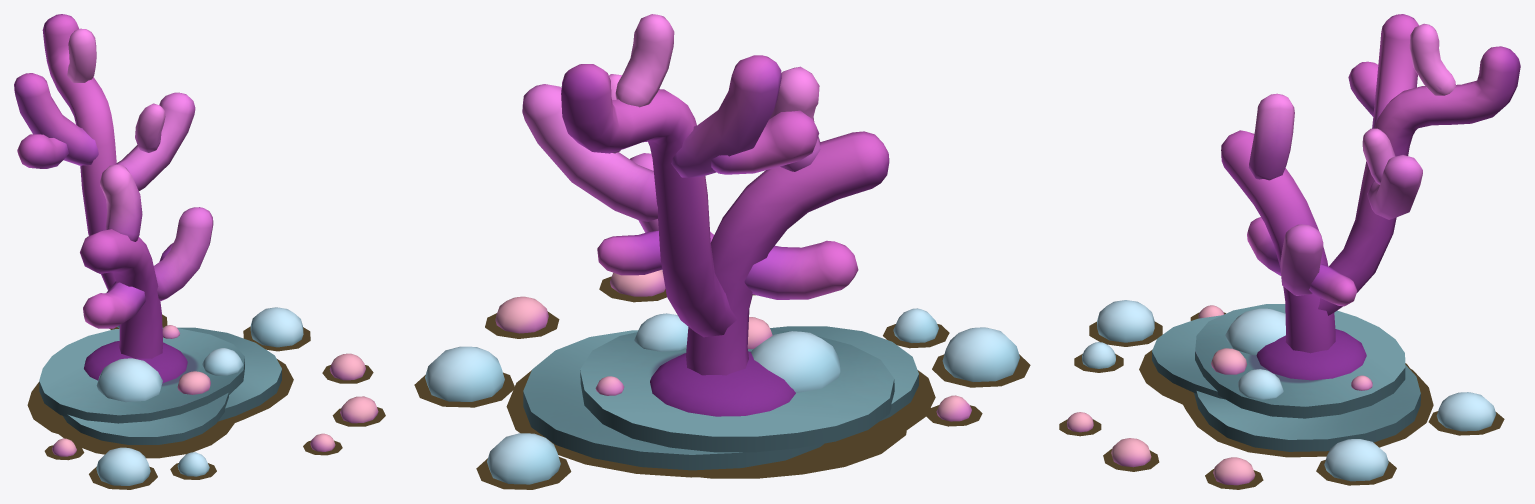
The model's file is Mu_Coral01.fbx.
3 views of the same model, side by side, from view 1: azimuth 30°, elevation 25°; view 2: azimuth 150°, elevation 25°; view 3: azimuth 270°, elevation 25° (orthographic). The views are drawn at different scales.
Visible parts, largest first — view 1: Mu_Coral01_a, Mu_Coral01_shadow, Mu_Coral01_b; view 2: Mu_Coral01_a, Mu_Coral01_b, Mu_Coral01_shadow; view 3: Mu_Coral01_a, Mu_Coral01_b, Mu_Coral01_shadow.
Part boxes in pixels (bbox=[...]): Mu_Coral01_a: bbox=[14, 14, 281, 444]; Mu_Coral01_shadow: bbox=[27, 314, 385, 489]; Mu_Coral01_b: bbox=[52, 307, 378, 485]; Mu_Coral01_a: bbox=[522, 14, 918, 470]; Mu_Coral01_b: bbox=[425, 270, 1019, 484]; Mu_Coral01_shadow: bbox=[414, 276, 1030, 489]; Mu_Coral01_a: bbox=[1152, 14, 1520, 451]; Mu_Coral01_b: bbox=[1067, 300, 1496, 485]; Mu_Coral01_shadow: bbox=[1059, 312, 1504, 489].
Bounding box in the file's own units: 178 × 165 × 193.
2 materials, 1 textured.
